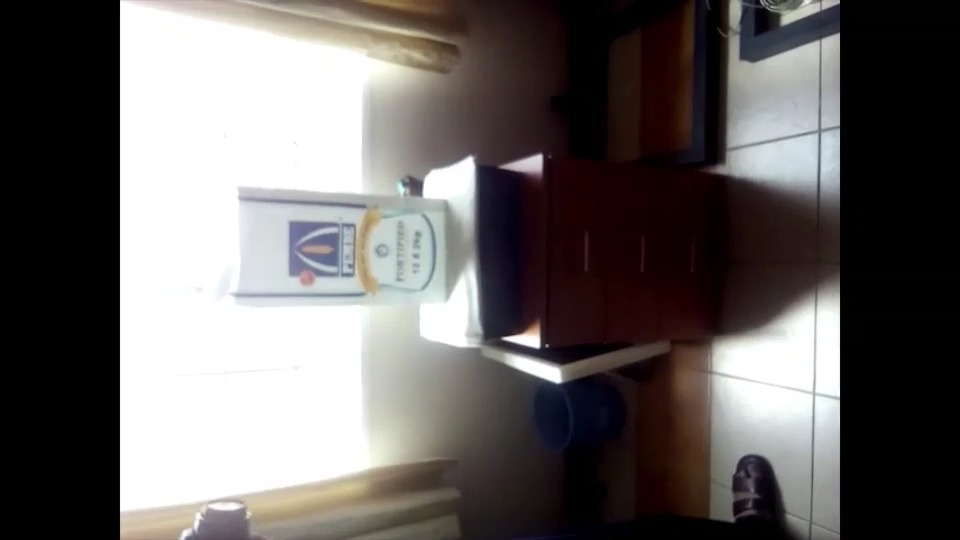wheat_flour_blue_label: (230, 191, 451, 299)
